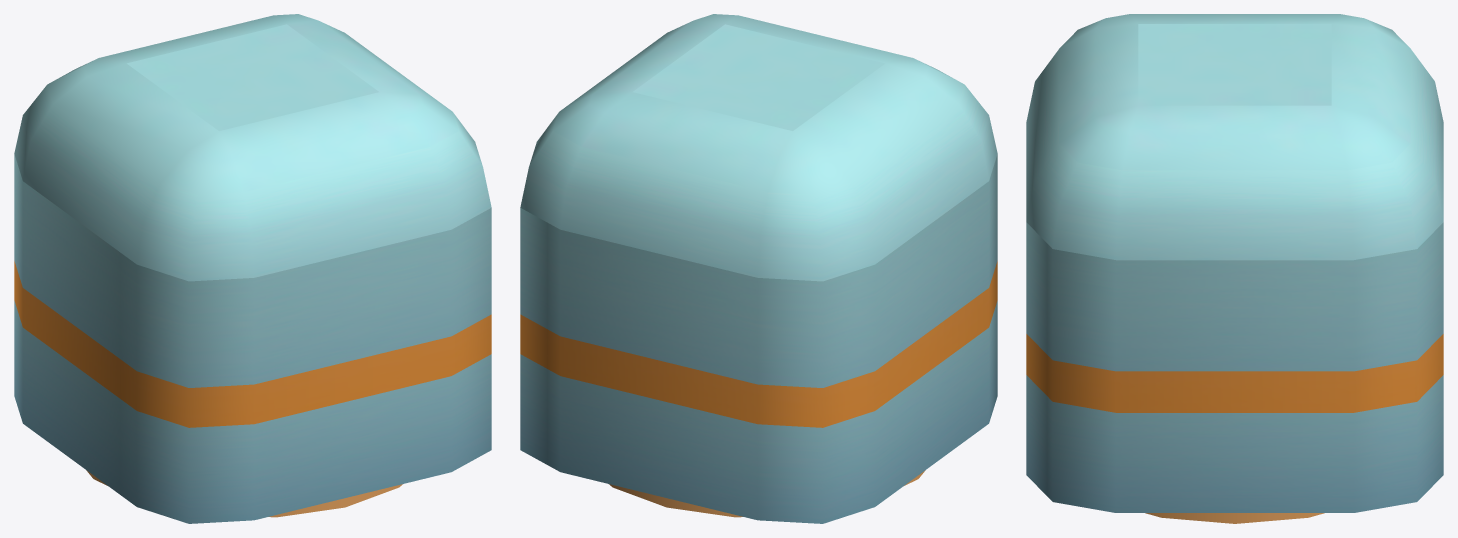
The model's file is C.Block 1x1.fbx.
3 renders of one model, left to right at view 1: azimuth 30°, elevation 25°; view 2: azimuth 150°, elevation 25°; view 3: azimuth 270°, elevation 25°, orthographic. The views are drawn at different scales.
Parts seen in each view (by area): view 1: C. Block 1x1; view 2: C. Block 1x1; view 3: C. Block 1x1.
Boxes of the visible parts, bbox=[...] form: C. Block 1x1: bbox=[14, 14, 491, 523]; C. Block 1x1: bbox=[520, 14, 997, 523]; C. Block 1x1: bbox=[1026, 14, 1443, 523].
Bounding box in the file's own units: 100 × 100 × 100.
